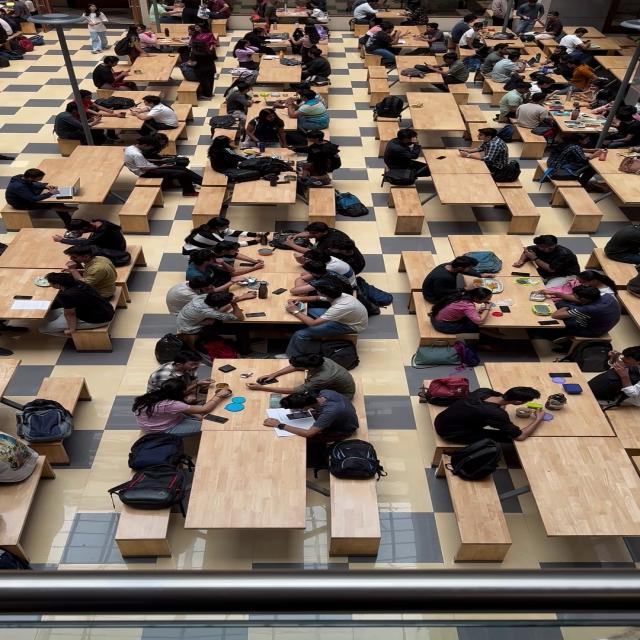Occupied: (198, 266, 348, 327), (450, 272, 568, 331), (190, 368, 299, 431), (437, 387, 548, 446), (263, 388, 368, 444), (132, 380, 231, 438), (26, 147, 131, 201), (246, 356, 356, 403), (0, 228, 141, 264), (281, 285, 368, 343), (122, 136, 204, 195), (38, 273, 116, 334), (544, 285, 622, 337), (422, 256, 496, 306), (174, 290, 258, 334), (146, 354, 217, 403), (546, 102, 625, 146), (192, 242, 267, 288), (546, 134, 610, 187), (60, 244, 119, 300), (514, 236, 581, 284), (428, 288, 494, 336), (448, 235, 528, 272), (182, 222, 269, 256), (207, 135, 271, 180), (584, 350, 638, 402), (382, 128, 429, 181), (219, 94, 320, 118), (53, 103, 108, 147), (541, 28, 626, 56), (288, 130, 342, 172), (292, 250, 353, 287), (280, 222, 351, 253), (128, 95, 179, 136), (559, 270, 621, 303), (284, 89, 329, 133), (4, 168, 62, 202), (244, 109, 290, 150), (514, 93, 556, 137), (187, 44, 218, 100), (593, 112, 639, 149), (422, 53, 467, 90), (362, 24, 398, 70), (556, 60, 601, 96), (118, 25, 158, 65), (498, 83, 536, 125), (324, 237, 365, 274), (393, 65, 449, 92), (137, 134, 181, 168), (83, 56, 131, 86), (67, 90, 116, 118), (384, 28, 448, 49), (257, 58, 305, 86), (100, 90, 166, 110), (88, 110, 145, 131), (490, 52, 527, 84), (592, 56, 637, 82), (534, 46, 572, 76), (298, 49, 331, 83), (580, 91, 621, 117), (243, 27, 282, 54), (513, 0, 544, 33), (450, 15, 478, 51), (234, 36, 267, 66), (486, 12, 533, 32), (225, 74, 258, 102), (188, 24, 217, 54), (200, 0, 231, 28), (296, 22, 329, 46), (398, 1, 429, 26), (254, 0, 285, 24), (352, 0, 381, 25), (156, 0, 185, 25), (155, 22, 197, 39), (272, 8, 316, 24), (178, 0, 203, 27), (592, 36, 638, 50), (489, 0, 512, 27), (535, 38, 565, 58), (12, 0, 34, 26), (1, 9, 20, 35), (298, 43, 328, 57), (351, 22, 377, 38)
Unoccupied: (515, 437, 640, 542), (185, 431, 308, 534), (484, 362, 620, 432), (442, 459, 516, 562), (328, 465, 382, 557), (111, 489, 176, 558), (227, 154, 300, 204), (435, 173, 507, 205), (601, 402, 640, 459), (1, 204, 80, 230), (588, 247, 640, 286), (552, 186, 606, 223), (496, 188, 542, 228), (35, 377, 89, 411), (600, 170, 638, 207), (390, 192, 426, 230), (408, 107, 466, 130), (117, 187, 161, 217), (190, 185, 230, 217), (518, 127, 550, 159), (306, 190, 336, 221), (400, 250, 430, 278), (444, 79, 476, 105), (367, 76, 391, 105), (375, 120, 401, 145), (176, 81, 200, 107), (457, 105, 489, 124), (568, 26, 608, 38), (532, 159, 551, 183), (519, 36, 543, 53)
